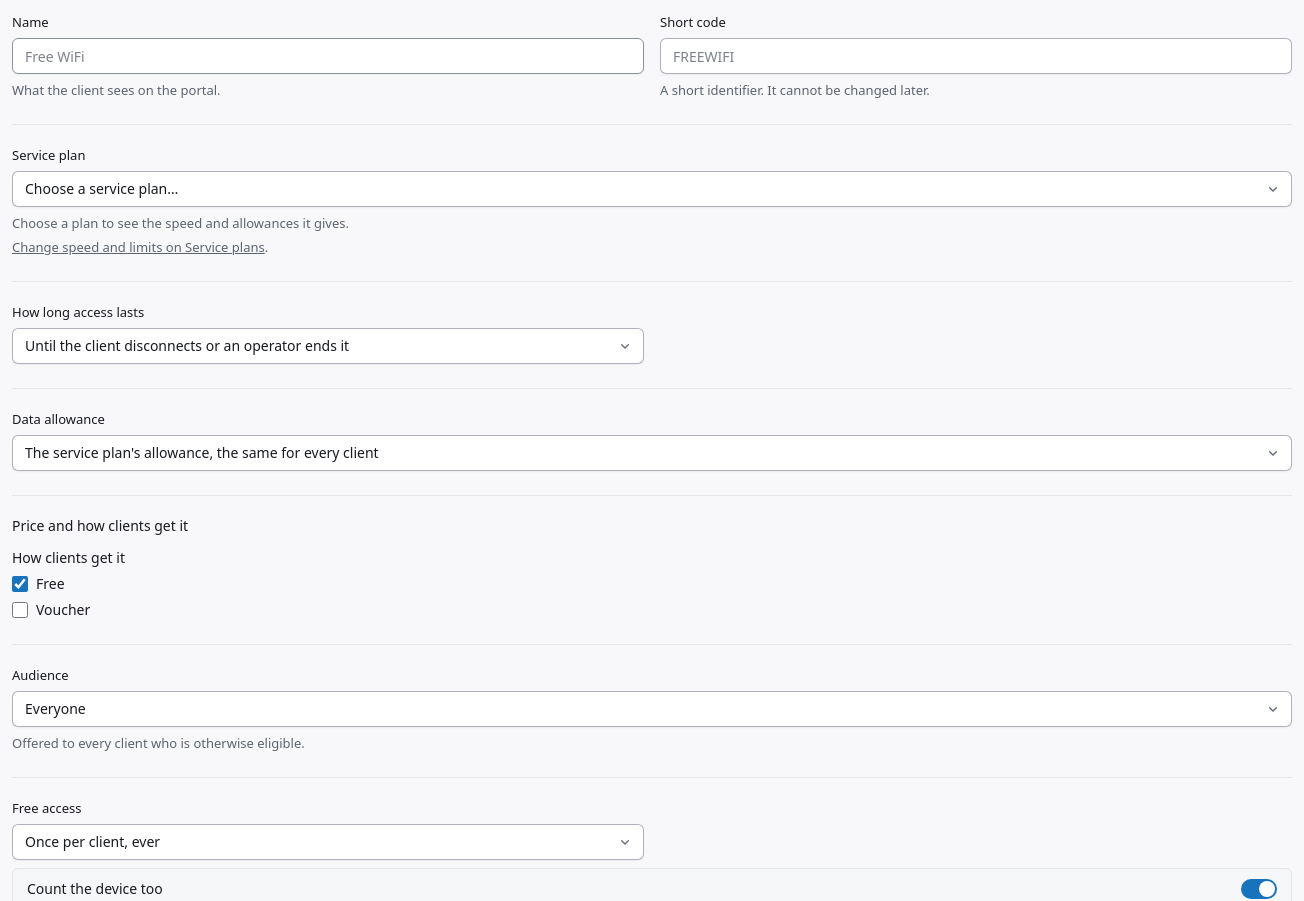
PackageForm › shows what the selected plan grants, read-only, in the Product Owner's wording
Select "Gold" in the dropdown with test id "service-plan" at (652, 189), box [12,171,1292,207]
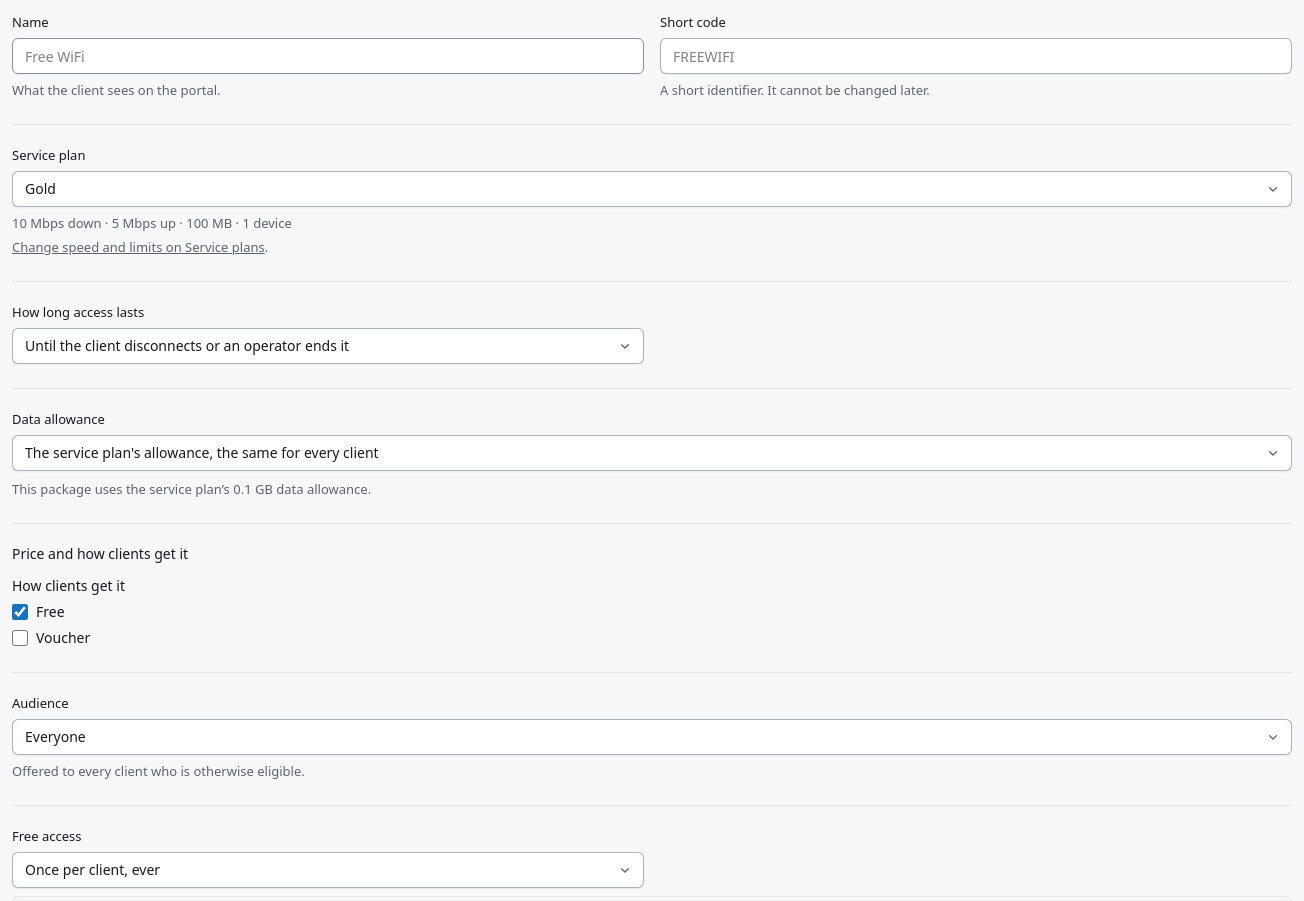
Expected: the text with test id "plan-summary" reads "10 Mbps down · 5 Mbps up · 100 MB · 1 device", [12,214,292,232]
